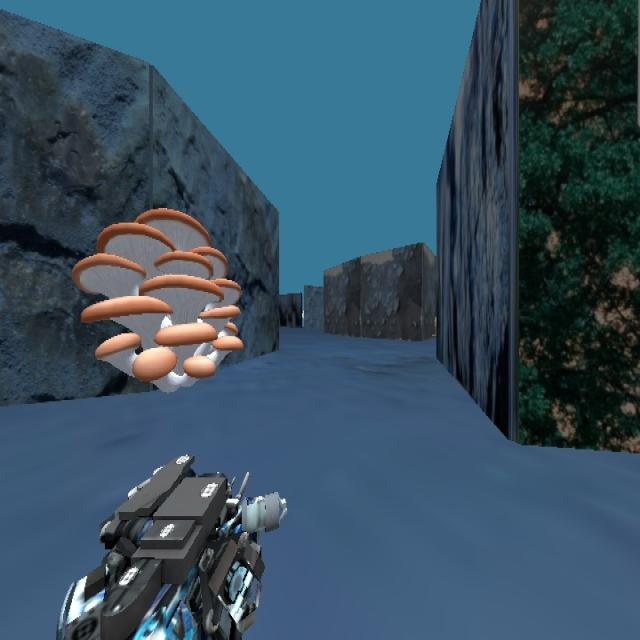Mushroom: (71, 205, 244, 392)
